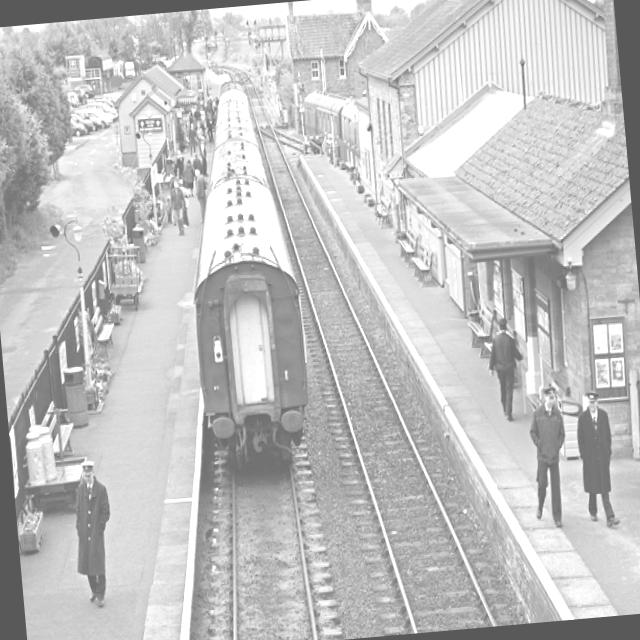Vehicle: (85, 100, 118, 124), (74, 108, 108, 129), (80, 106, 113, 124), (70, 111, 96, 132), (70, 117, 88, 138), (102, 92, 120, 106)
